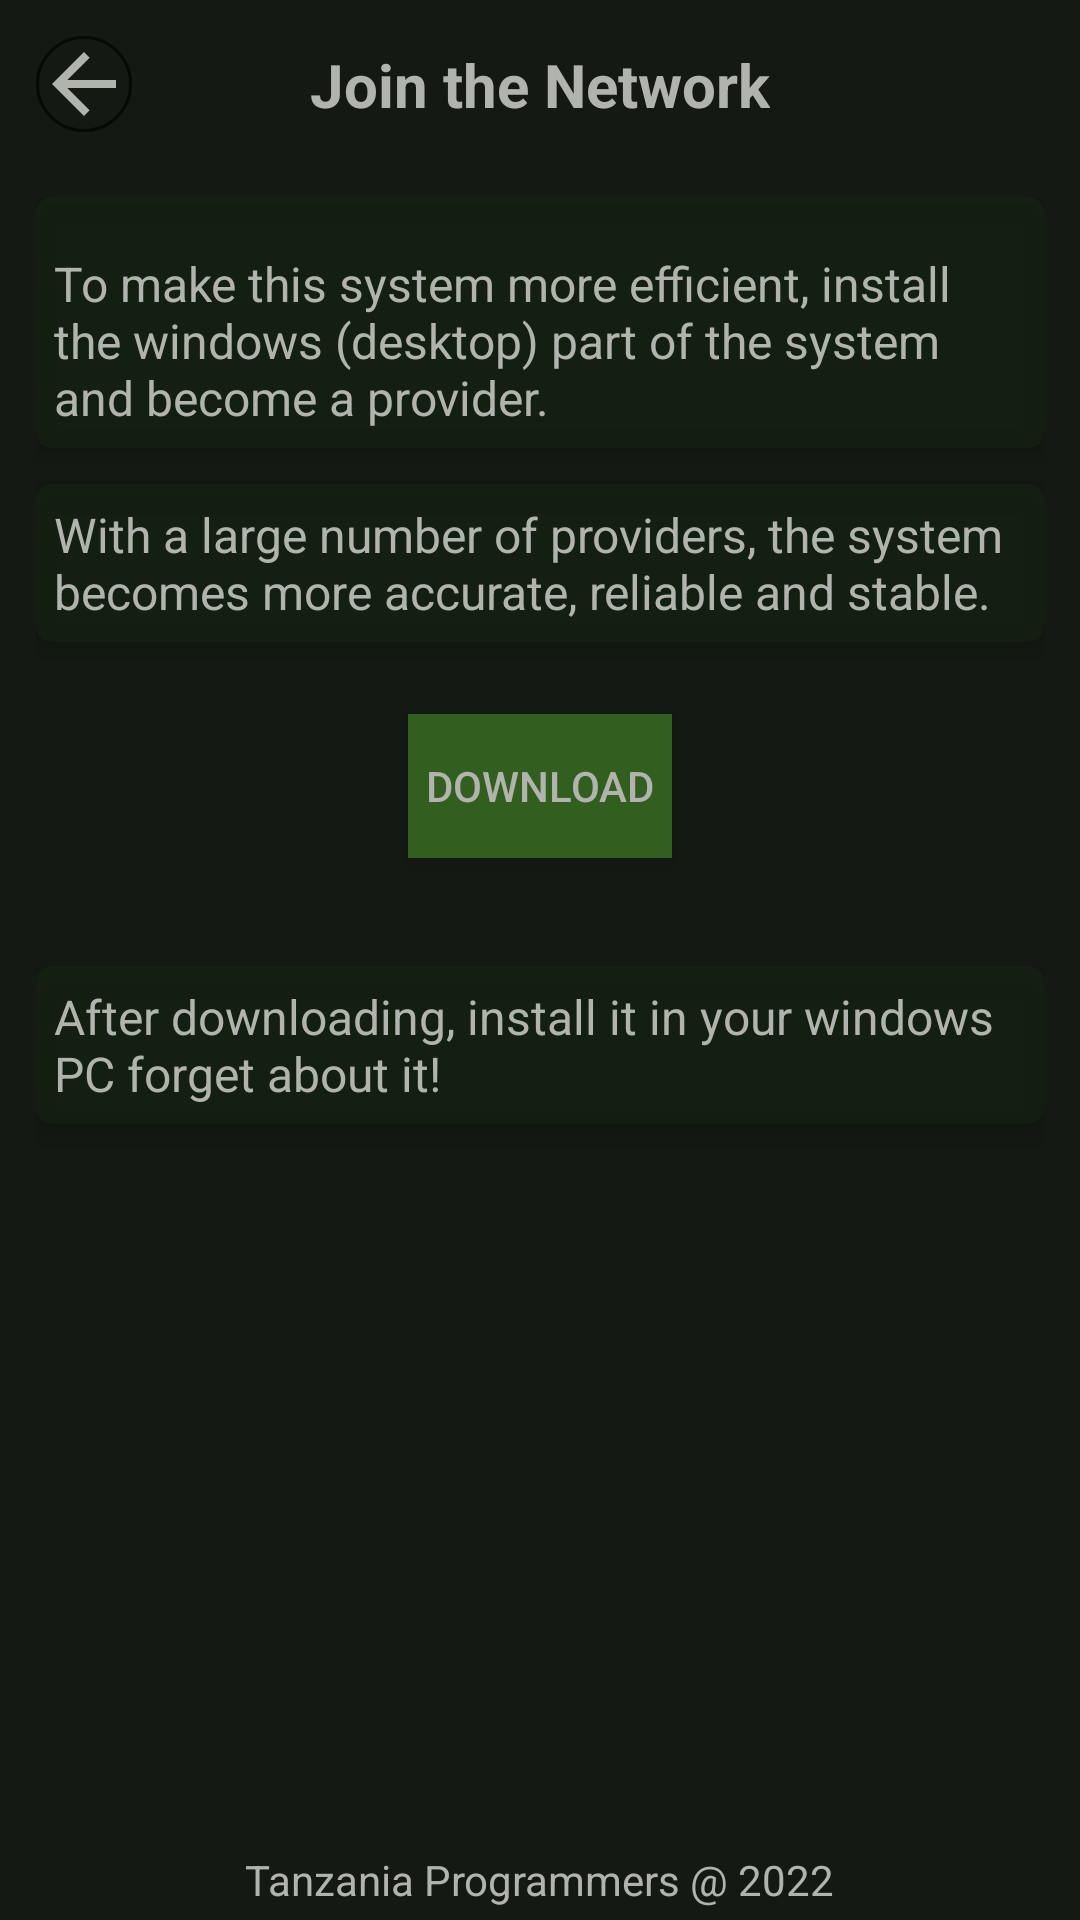

Icons on this 1080px×1920px Android screen, each with its box as (x1, y1, x2, y2):
back: (52, 52, 116, 116)
